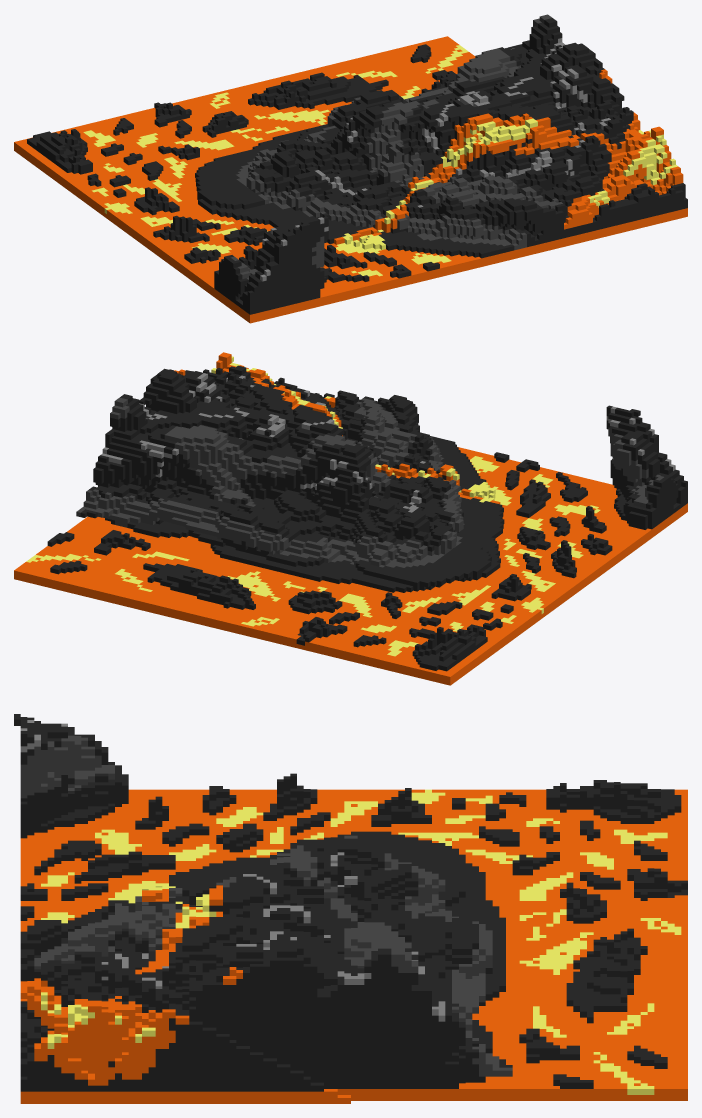
Rendered from Lava_stuff-31.obj.
The picture shows the model from 3 angles, top to bottom: view 1: azimuth 30°, elevation 25°; view 2: azimuth 150°, elevation 25°; view 3: azimuth 270°, elevation 25°; orthographic projection. The views are drawn at different scales.
Size of the model in its own units: 21.2 by 4.8 by 20.
1 material, 1 textured.
